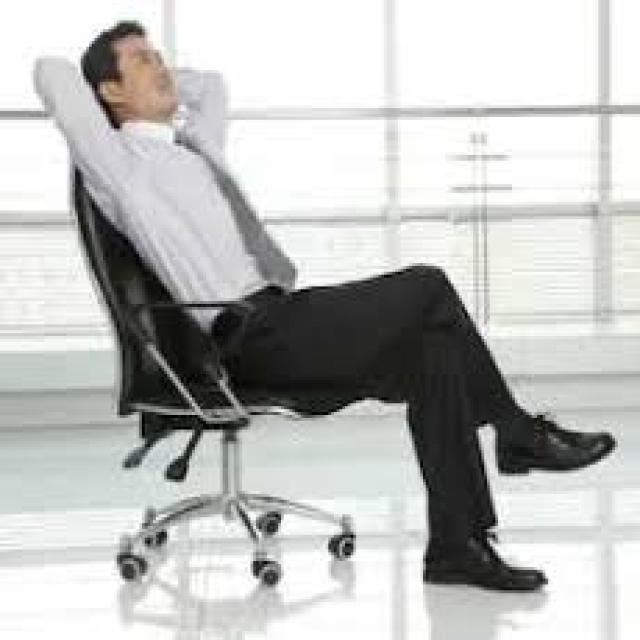chair: (15, 22, 404, 630)
